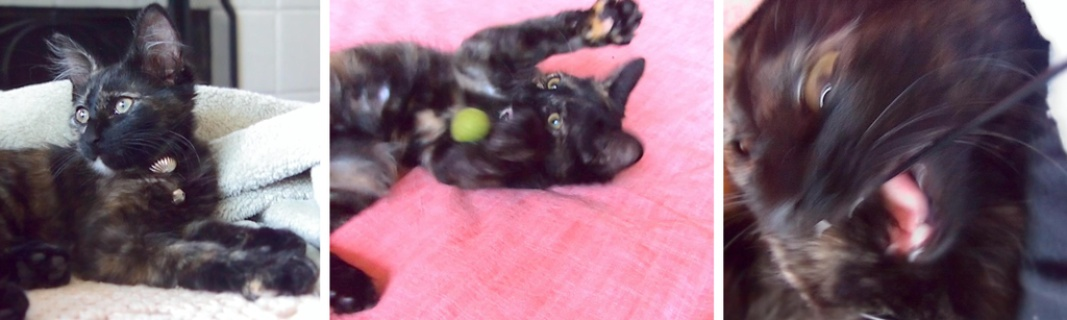Cat: (716, 0, 1066, 318), (0, 0, 320, 318), (326, 0, 655, 199)
